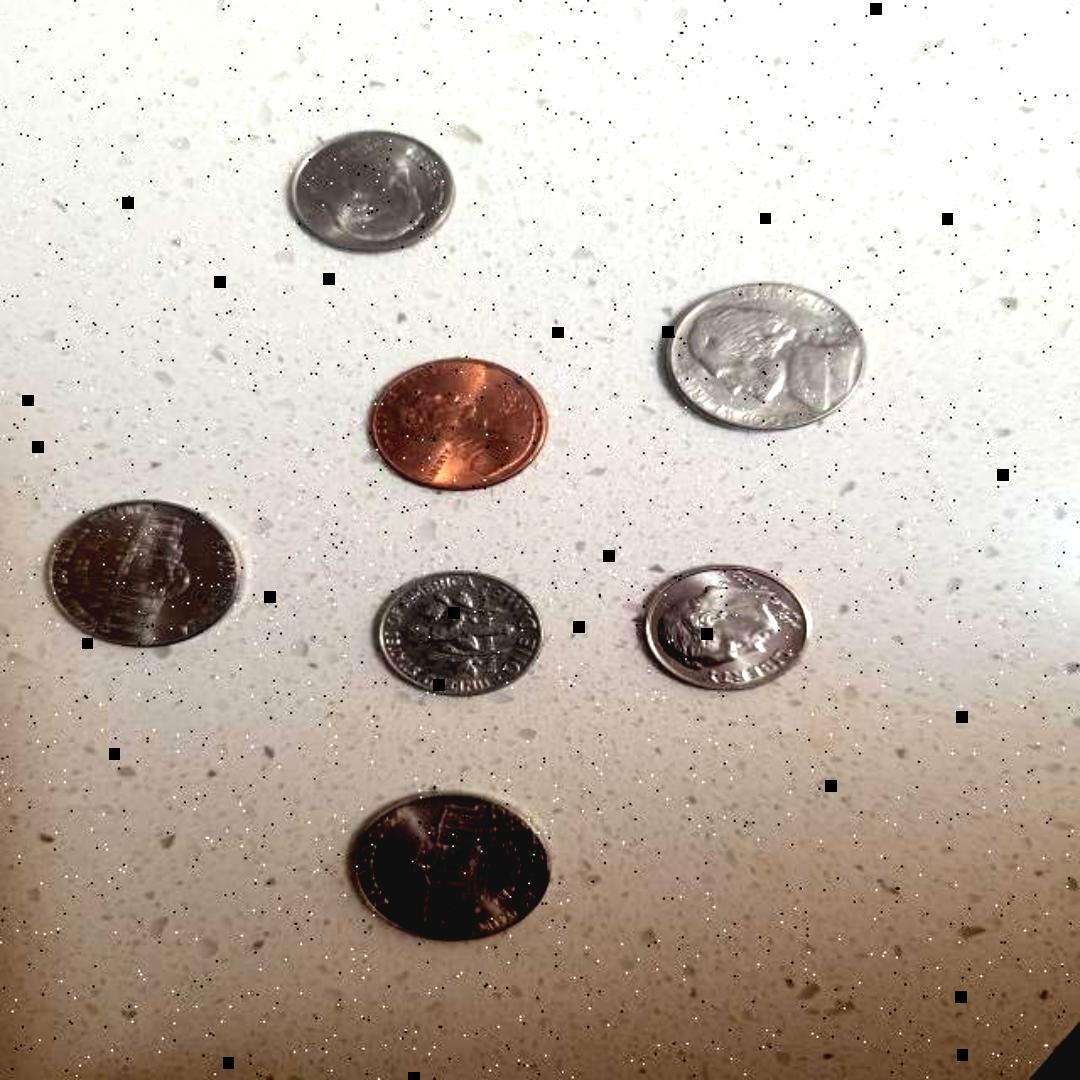Dime: (364, 564, 551, 700), (290, 117, 468, 255), (630, 564, 816, 694)
Nickel: (33, 496, 265, 648), (652, 278, 866, 440), (348, 787, 554, 945)
Penny: (356, 356, 556, 500)
